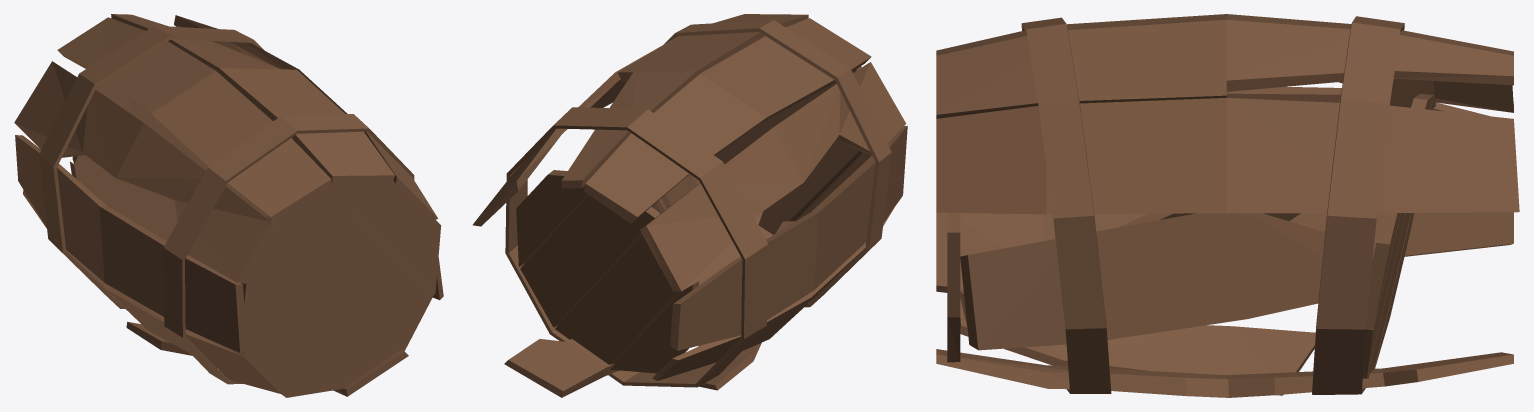
Rendered from 03 Barrel.FBX.
3 renders of one model, left to right at view 1: azimuth 30°, elevation 25°; view 2: azimuth 150°, elevation 25°; view 3: azimuth 270°, elevation 25°, orthographic. The views are drawn at different scales.
Visible parts, largest first — view 1: Barrel_broken010; view 2: Barrel_broken010; view 3: Barrel_broken010.
Part boxes in pixels (x1,y1,x2,y2): Barrel_broken010: (14, 14, 443, 397); Barrel_broken010: (472, 14, 907, 397); Barrel_broken010: (936, 14, 1519, 397).
Size of the model in its own units: 140 by 151 by 212.
